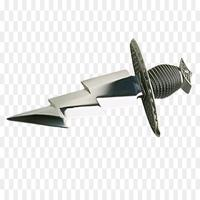knife: (5, 49, 187, 133)
